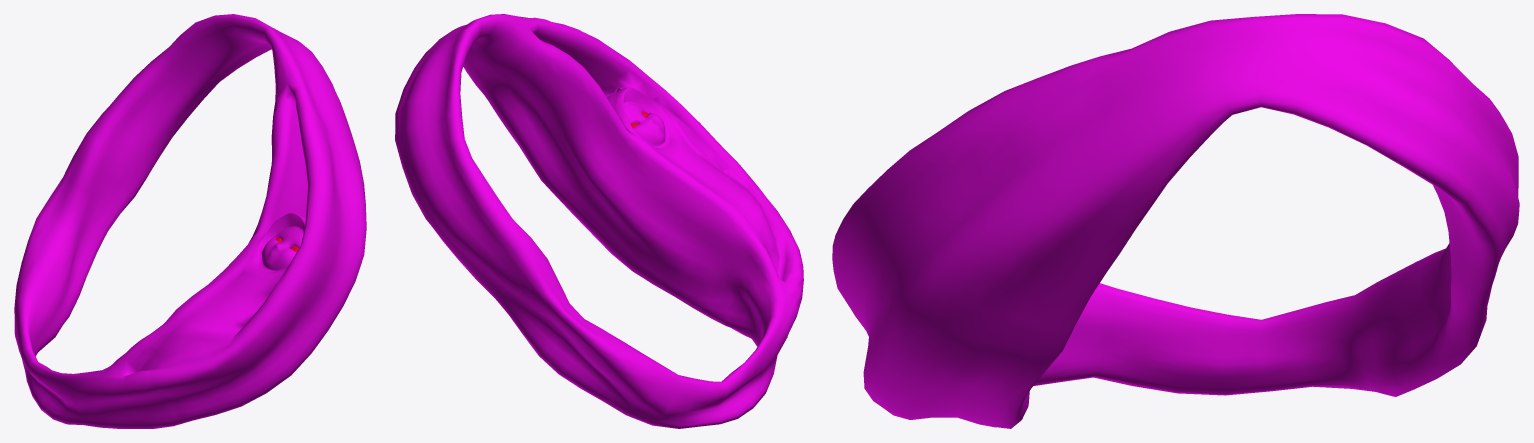
File: babyrinP.fbx
The picture shows the model from 3 angles, left to right: view 1: azimuth 30°, elevation 25°; view 2: azimuth 150°, elevation 25°; view 3: azimuth 270°, elevation 25°; orthographic projection. The views are drawn at different scales.
Visible parts, largest first — view 1: papa.002; view 2: papa.002; view 3: papa.002.
Boxes of the visible parts, x1,y1,x2,y2 form: papa.002: [14, 14, 366, 428]; papa.002: [395, 14, 803, 428]; papa.002: [832, 14, 1519, 428].
Bounding box in the file's own units: 38.15 × 42.38 × 45.32.
